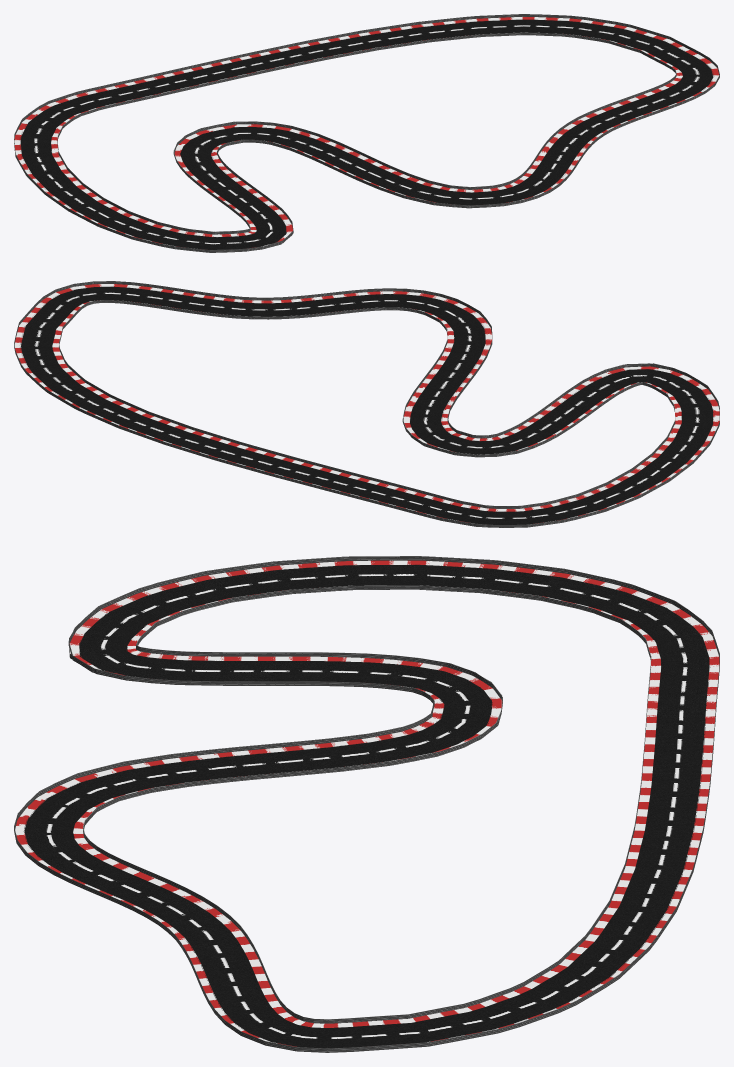
The model's file is CircuitoMedio.fbx.
The picture shows the model from 3 angles, top to bottom: view 1: azimuth 30°, elevation 25°; view 2: azimuth 150°, elevation 25°; view 3: azimuth 270°, elevation 25°; orthographic projection. The views are drawn at different scales.
Parts seen in each view (by area): view 1: Suelo, Extremos, ParedExt, ParedInt; view 2: Suelo, Extremos, ParedExt, ParedInt; view 3: Suelo, Extremos, ParedExt, ParedInt.
Part boxes in pixels (x1,y1,x2,y2): Suelo: [20, 19, 713, 249]; Extremos: [14, 17, 719, 249]; ParedExt: [14, 14, 719, 252]; ParedInt: [57, 32, 676, 234]; Suelo: [21, 286, 712, 524]; Extremos: [14, 284, 719, 524]; ParedExt: [14, 281, 719, 527]; ParedInt: [59, 300, 675, 508]; Suelo: [24, 565, 709, 1048]; Extremos: [15, 560, 719, 1046]; ParedExt: [14, 556, 719, 1052]; ParedInt: [83, 585, 651, 1023].
Bounding box in the file's own units: 22466 × 92.52 × 13610.
Materials: 2 (2 with a texture image).
